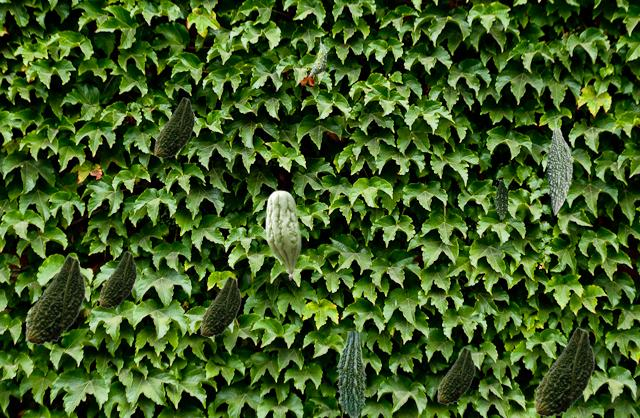ampalaya: (534, 327, 594, 416), (25, 255, 85, 344), (265, 190, 300, 279), (336, 331, 365, 416), (546, 120, 572, 214), (200, 276, 240, 336), (154, 97, 194, 157), (437, 347, 474, 403), (99, 251, 136, 307), (308, 37, 326, 76), (495, 179, 508, 218)
